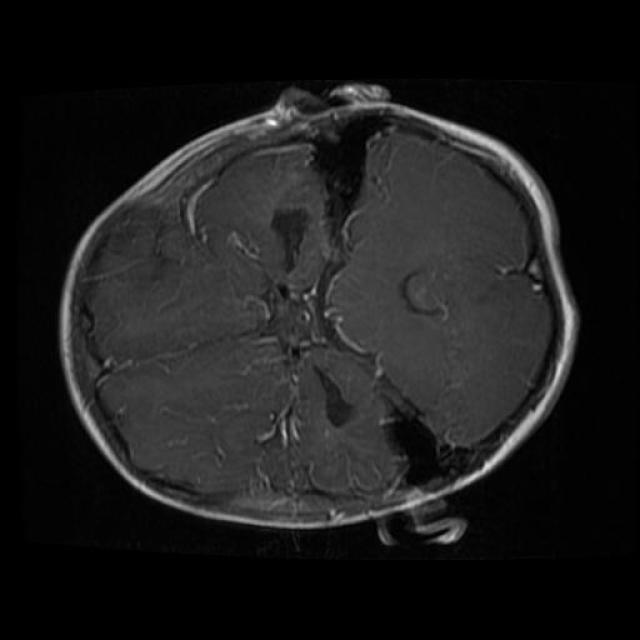Glioma: (82, 211, 241, 282)
